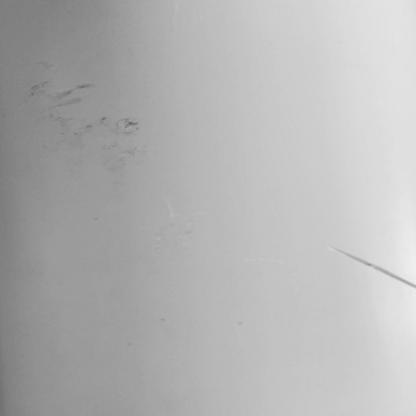sunshang: (330, 245, 416, 287)
